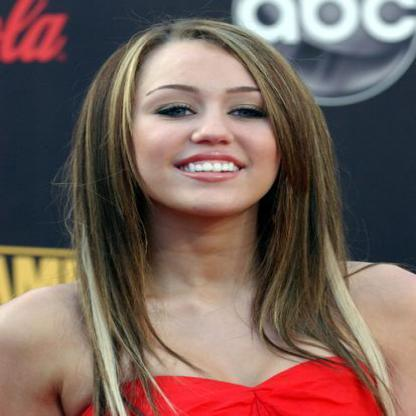long-hair: (58, 217, 348, 296)
